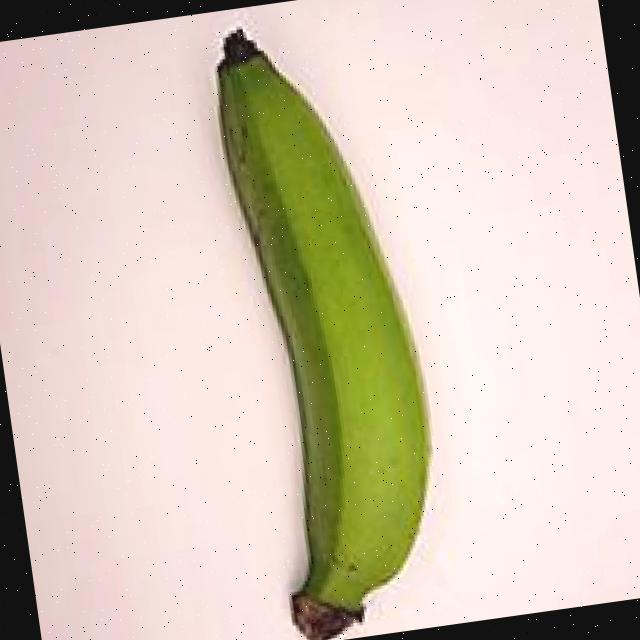Raw: (124, 0, 496, 640)
